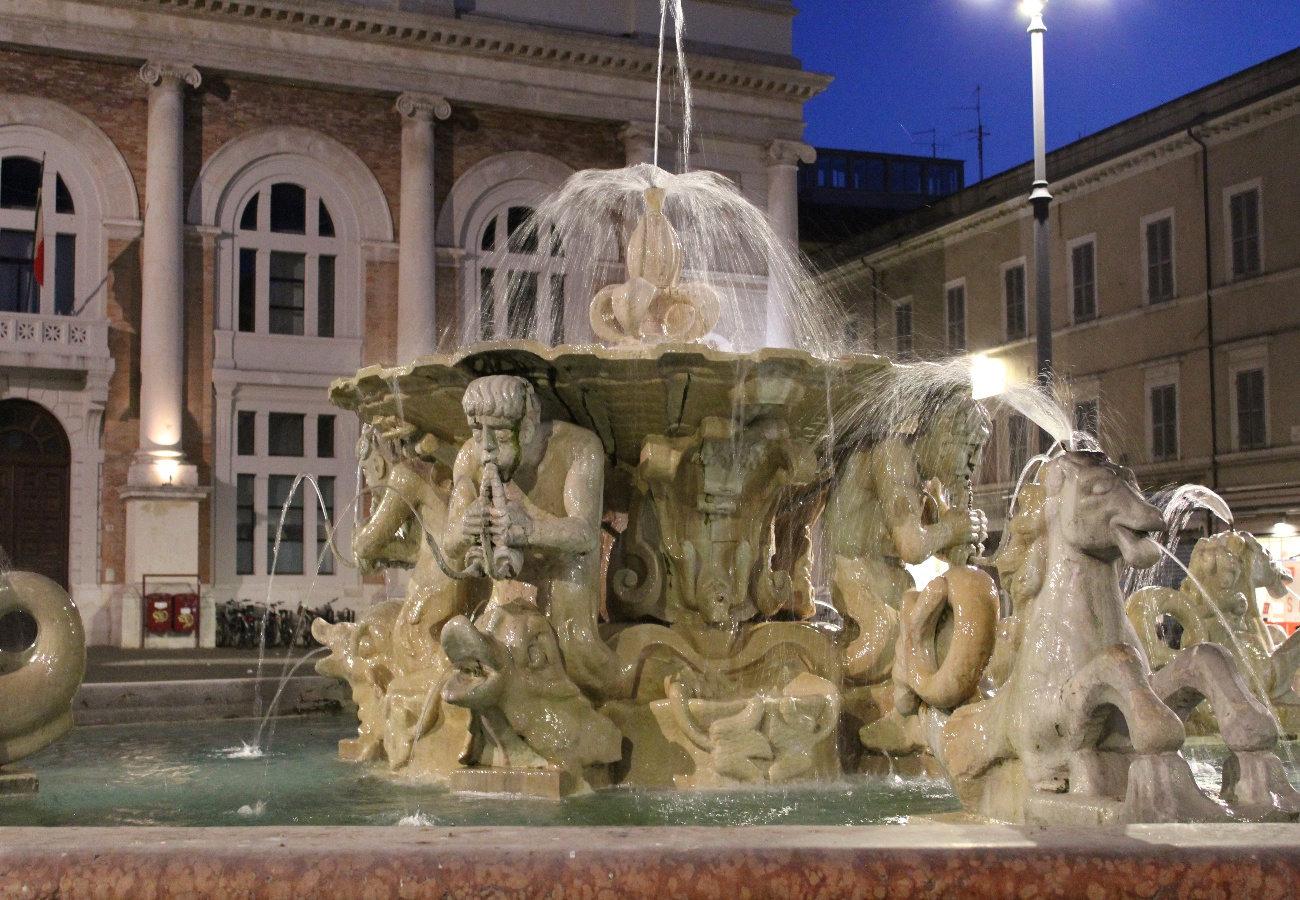Fontana Piazza del Popolo: (315, 337, 1010, 784)
